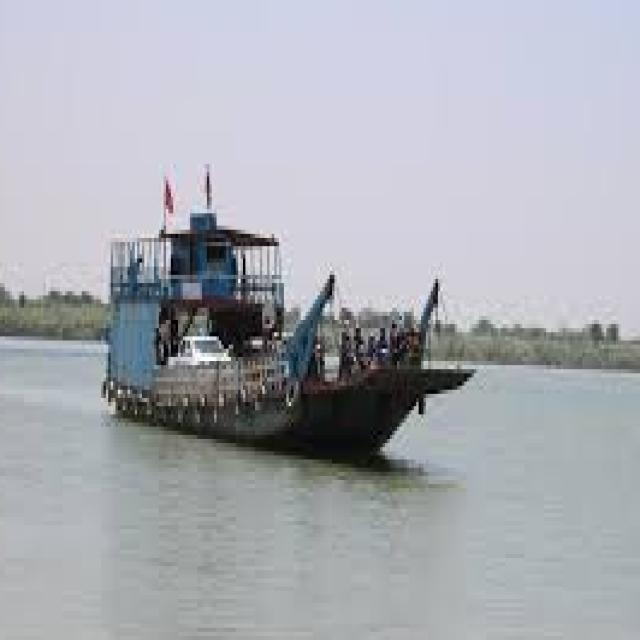cargoship: (84, 158, 449, 458)
